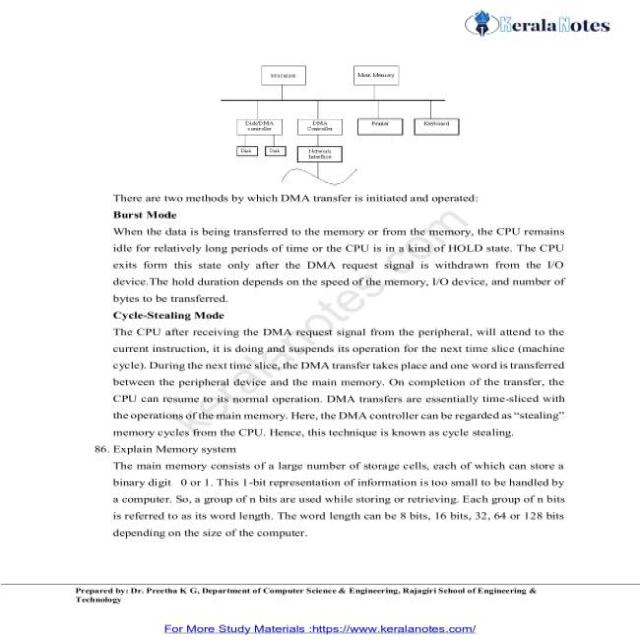Figure Detection - v3 Dataset Version2: (213, 52, 487, 189)
